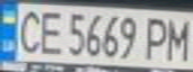5: (63, 9, 87, 57)
6: (100, 11, 124, 60), (81, 11, 106, 58)
9: (118, 12, 142, 61)
C: (12, 7, 45, 55)
E: (33, 7, 66, 56)
M: (163, 15, 193, 62)
P: (139, 14, 172, 62)
